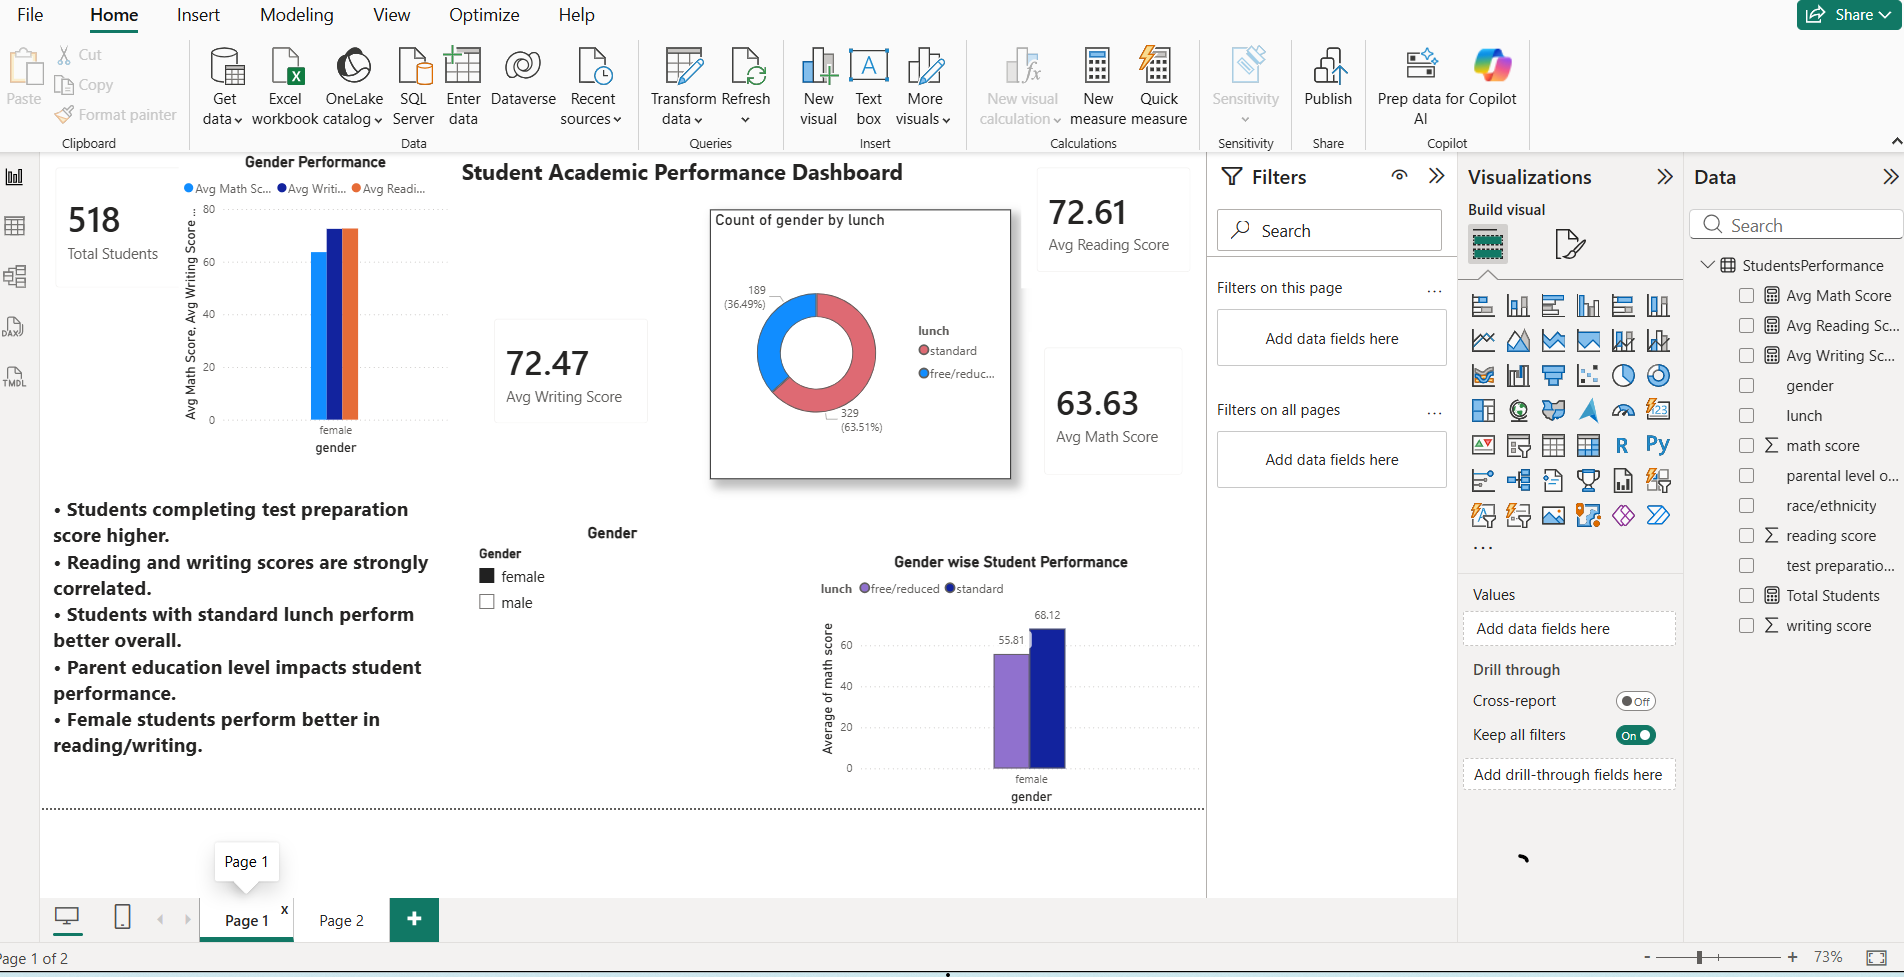

What the dashboard file says about the page in this screenshot:
{"tool":"powerbi","page":{"name":"Page 1","canvas":[1280,720],"ordinal":0},"visuals":[{"type":"card","title":"Average Maths Score","fields":{"Values":["Avg(StudentsPerformance.math score)"]},"box":[0,91.9,330.7,296.4],"z":0},{"type":"textbox","box":[452.8,0,575,135.8],"z":1},{"type":"lineClusteredColumnComboChart","title":"Gender wise Student Performance","fields":{"Category":["StudentsPerformance.gender"],"Y":["Avg(StudentsPerformance.math score)"],"Series":["StudentsPerformance.lunch"]},"box":[417.2,107,428.1,281.3],"z":2},{"type":"scatterChart","title":"Maths VS Reading Analysis","fields":{"X":["Avg(StudentsPerformance.math score)"],"Y":["Avg(StudentsPerformance.reading score)"],"Series":["StudentsPerformance.gender"],"Size":["Avg(StudentsPerformance.writing score)"],"Category":["StudentsPerformance.gender"]},"box":[886.5,107,363.6,252.5],"z":3},{"type":"donutChart","fields":{"Category":["StudentsPerformance.lunch"],"Y":["CountNonNull(StudentsPerformance.gender)"]},"box":[0,424,330.7,296.4],"z":4},{"type":"funnel","title":"Test Preparation Performance","fields":{"Category":["StudentsPerformance.test preparation course"],"Y":["Avg(StudentsPerformance.math score)"]},"box":[417,424,428,296],"z":5},{"type":"slicer","fields":{"Values":["StudentsPerformance.gender"]},"box":[886,424,364,296],"z":6}]}

Visuals, with their boxes in screenshot pixels (x1, y1, x2, y2):
"Average Maths Score" card: bbox=(0, 93, 350, 504)
textbox: bbox=(519, 0, 1317, 154)
"Gender wise Student Performance" lineClusteredColumnComboChart: bbox=(470, 114, 1063, 504)
"Maths VS Reading Analysis" scatterChart: bbox=(1121, 114, 1625, 464)
donutChart - StudentsPerformance.lunch x CountNonNull(StudentsPerformance.gender): bbox=(0, 553, 350, 965)
"Test Preparation Performance" funnel: bbox=(469, 553, 1063, 964)
slicer - StudentsPerformance.gender: bbox=(1120, 553, 1625, 964)
